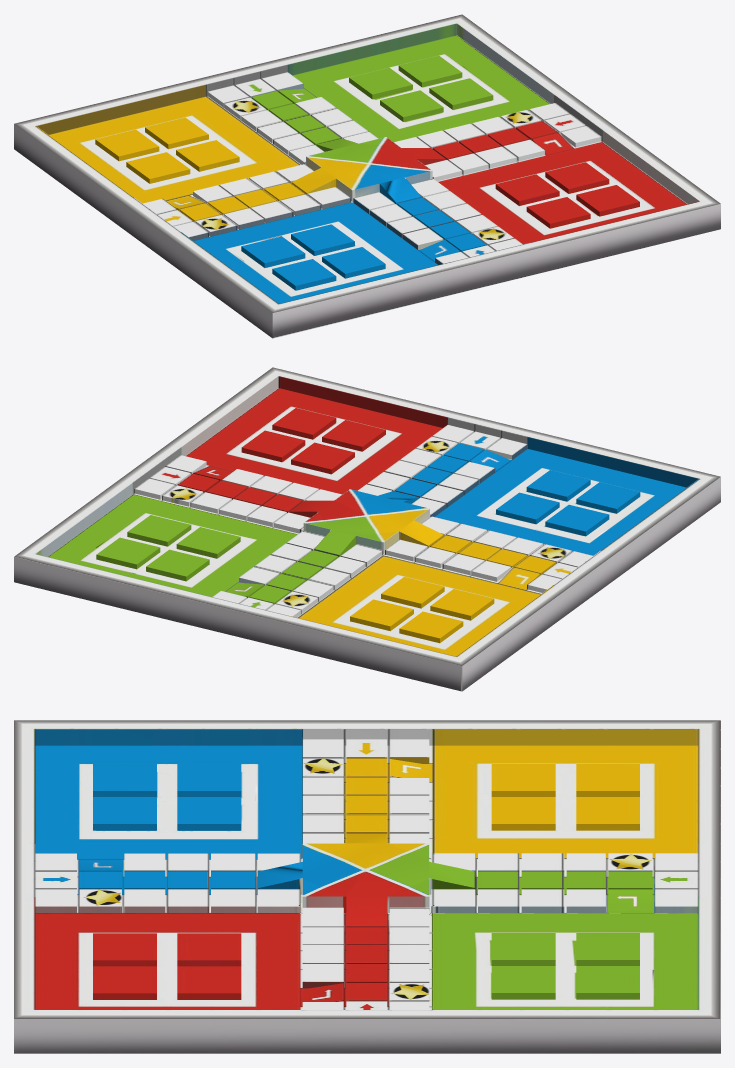
Rendered from NormalBoard.FBX.
3 views of the same model, one above another, from view 1: azimuth 30°, elevation 25°; view 2: azimuth 150°, elevation 25°; view 3: azimuth 270°, elevation 25° (orthographic). The views are drawn at different scales.
Parts seen in each view (by area): view 1: Ludo_Board; view 2: Ludo_Board; view 3: Ludo_Board.
Boxes of the visible parts, x1,y1,x2,y2 form: Ludo_Board: (14, 14, 720, 338); Ludo_Board: (14, 367, 720, 691); Ludo_Board: (14, 720, 720, 1053).
Bounding box in the file's own units: 39.37 × 39.37 × 2.16.
